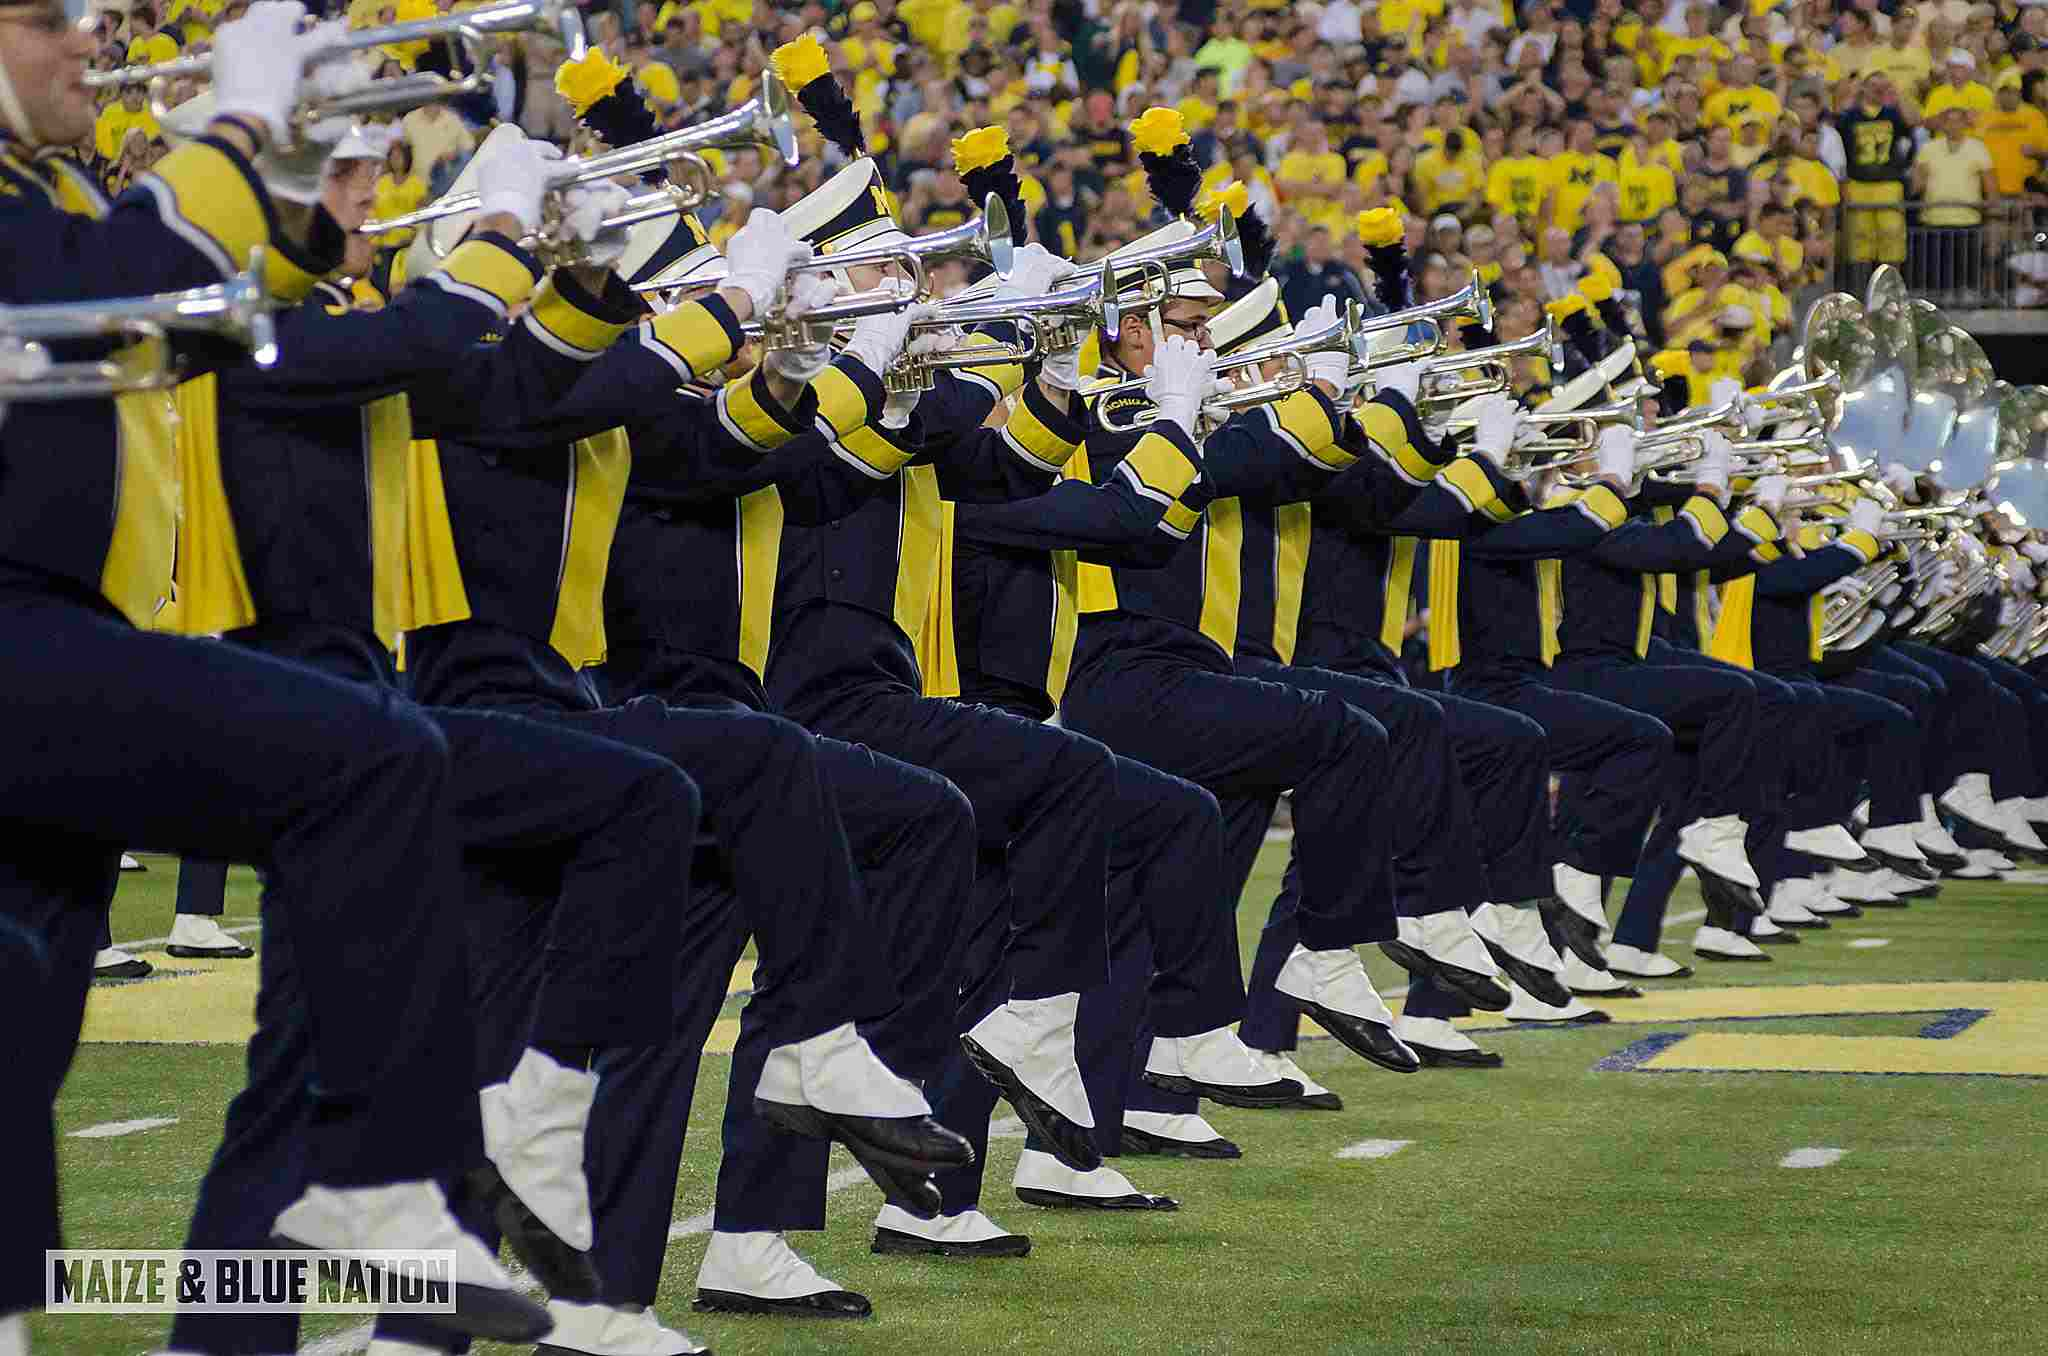feet: (681, 1171, 1035, 1323), (510, 1193, 802, 1356), (1009, 1099, 1249, 1205), (1233, 1002, 1475, 1103), (1384, 938, 1621, 1028), (1538, 899, 1685, 994), (1780, 844, 1892, 931), (1690, 888, 1808, 967)
